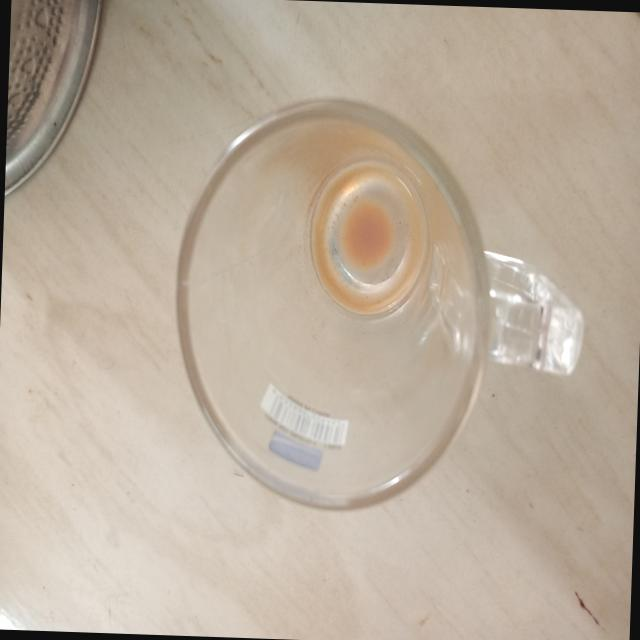glass-VX4N: (168, 83, 592, 528)
